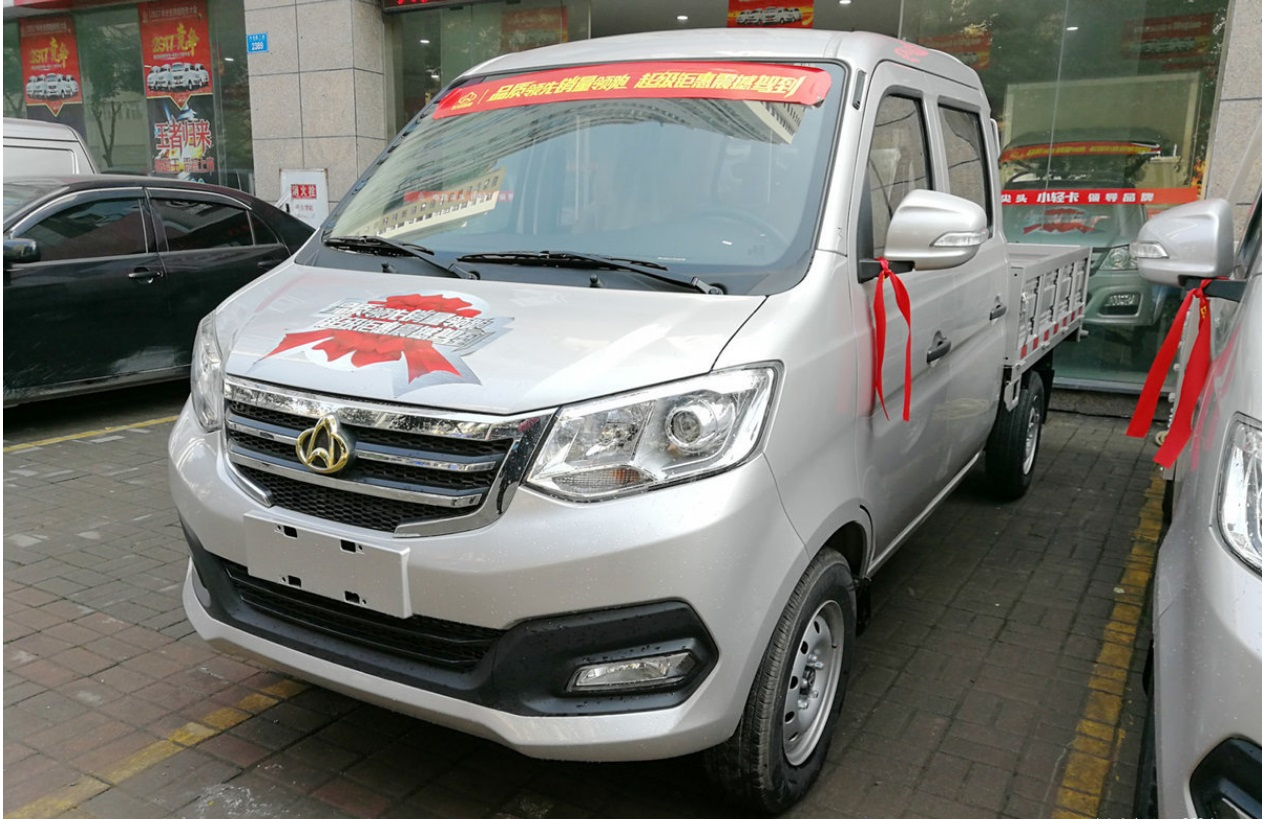truck: (162, 26, 1096, 787)
